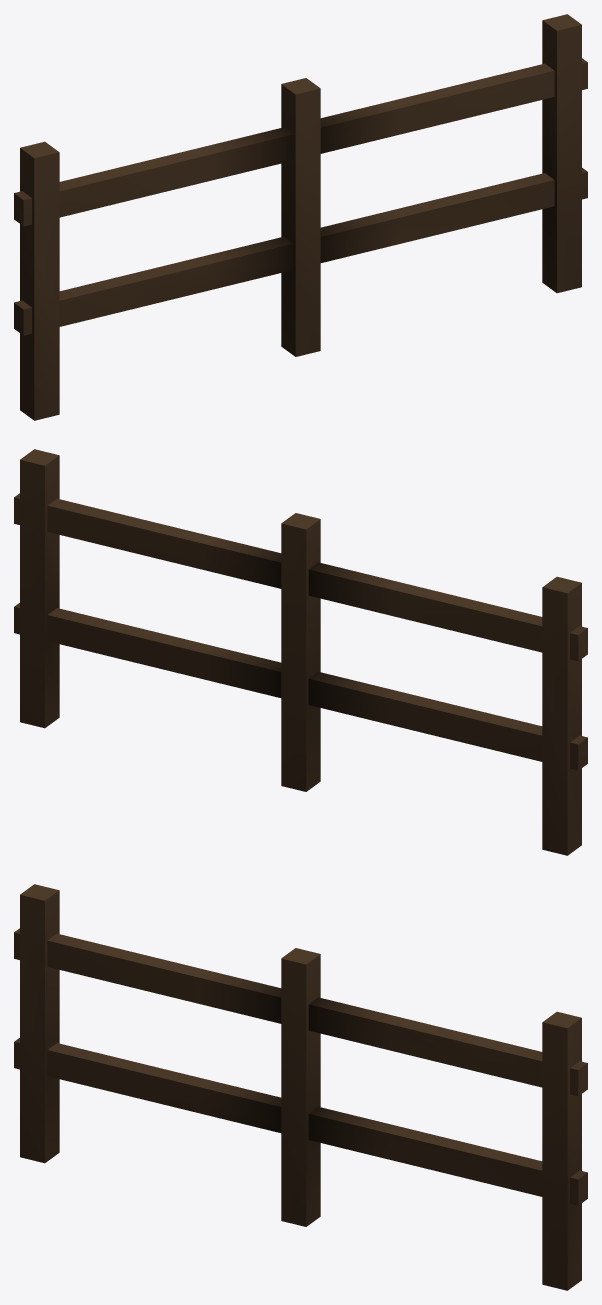
Rendered from fence.glb.
3 renders of one model, top to bottom at view 1: azimuth 30°, elevation 25°; view 2: azimuth 150°, elevation 25°; view 3: azimuth 330°, elevation 25°, orthographic.
Visible parts, largest first — view 1: fence; view 2: fence; view 3: fence.
Part boxes in pixels (x1,y1,x2,y2): fence: (14,14,587,420); fence: (14,449,587,855); fence: (14,884,587,1290).
Size of the model in its own units: 2.7 by 1.2 by 0.12.
